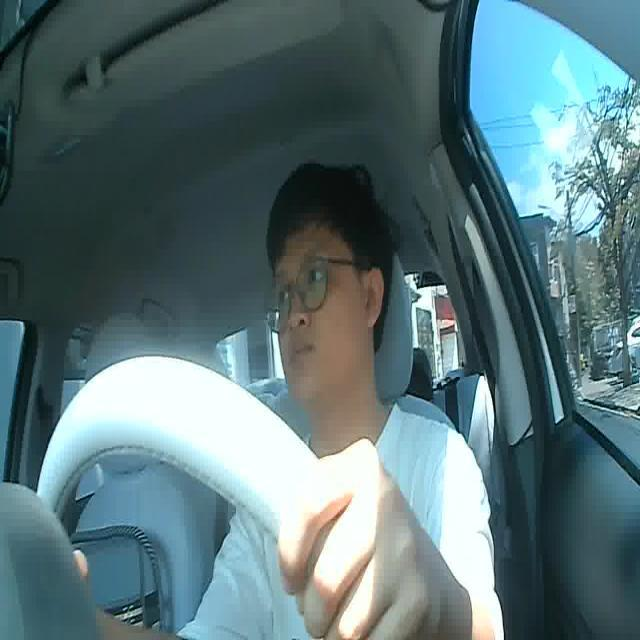Attentive: (266, 156, 402, 408)
Eye-Open: (308, 263, 331, 286), (275, 282, 299, 302)
Normal: (290, 336, 317, 365)
